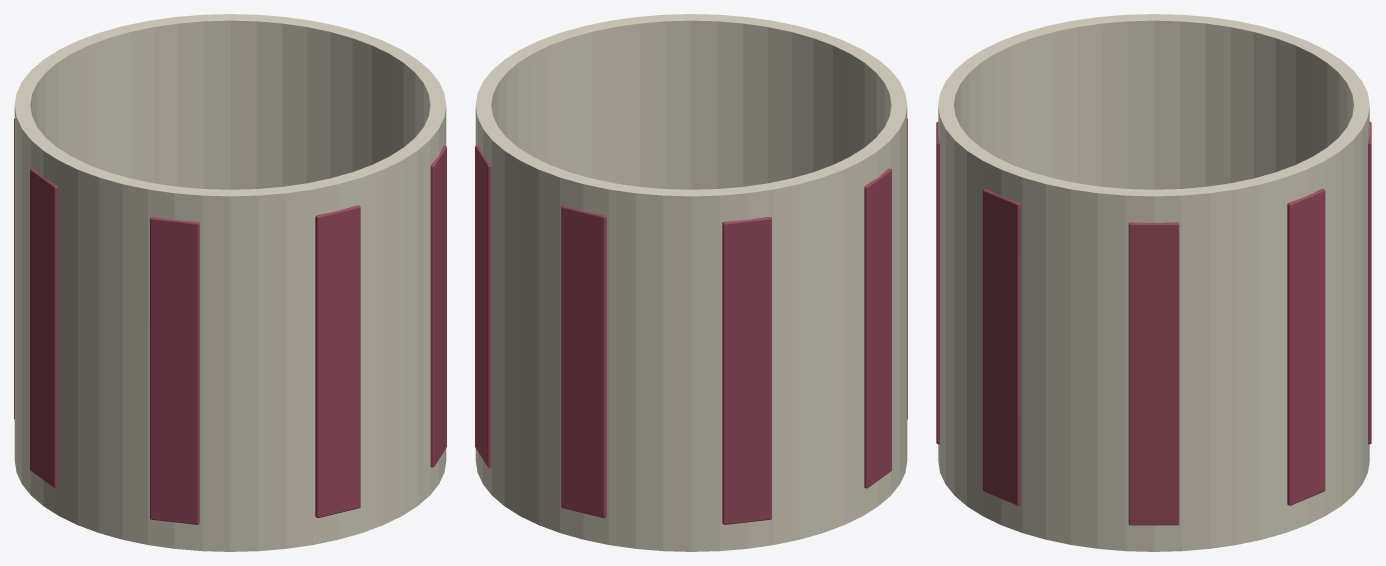
Rendered from abandoned-cinema-and-projection-booth-abandoned-cinema-7ab6d057__29724.glb.
The picture shows the model from 3 angles, left to right: view 1: azimuth 30°, elevation 25°; view 2: azimuth 150°, elevation 25°; view 3: azimuth 270°, elevation 25°; orthographic projection.
Parts seen in each view (by area): view 1: abandoned-cinema-and-projection-booth-paper-tub; view 2: abandoned-cinema-and-projection-booth-paper-tub; view 3: abandoned-cinema-and-projection-booth-paper-tub.
Boxes of the visible parts, x1,y1,x2,y2 form: abandoned-cinema-and-projection-booth-paper-tub: (14,14,446,551); abandoned-cinema-and-projection-booth-paper-tub: (475,14,907,551); abandoned-cinema-and-projection-booth-paper-tub: (936,14,1371,551).
Bounding box in the file's own units: 0.222 × 0.2 × 0.222.
